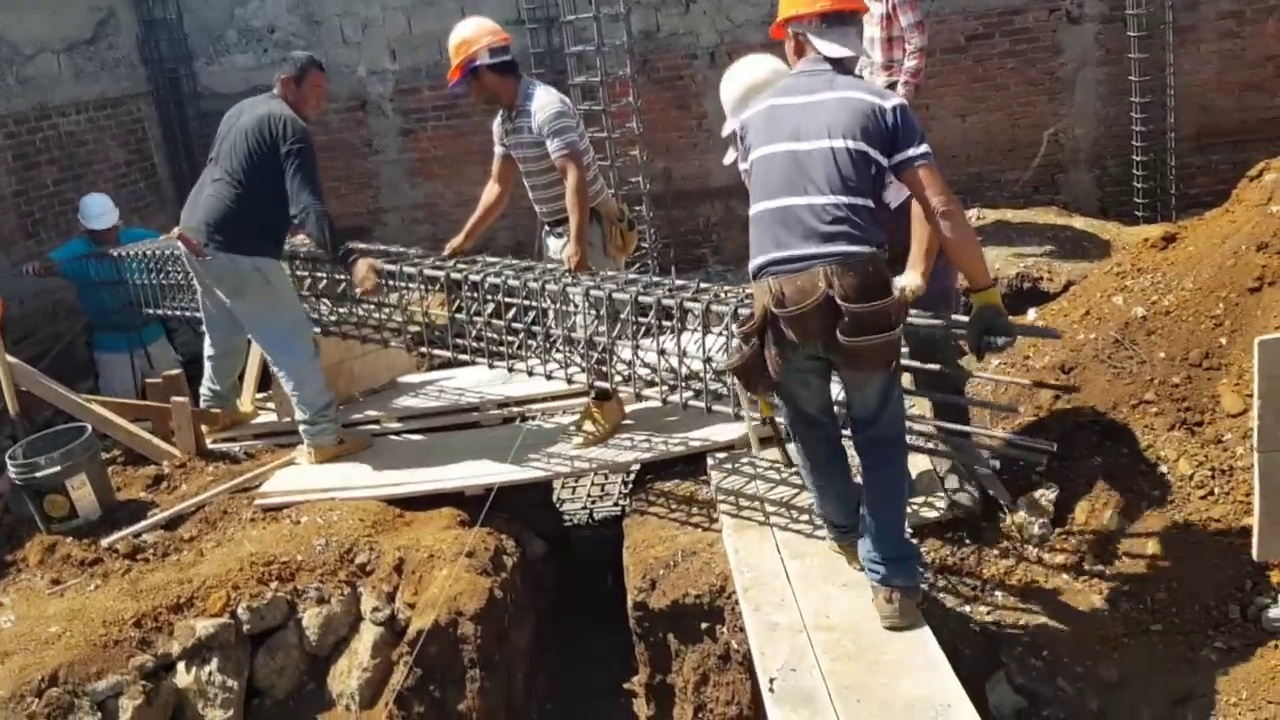helmet: (719, 53, 790, 138), (442, 19, 513, 89), (767, 0, 870, 42), (72, 193, 118, 231)
helmet-off: (265, 53, 326, 119)
helmet-on: (442, 17, 527, 115), (765, 0, 880, 66), (69, 193, 121, 250)
person: (708, 3, 1016, 606), (434, 16, 636, 444), (176, 55, 346, 480), (44, 194, 183, 405), (856, 0, 925, 109)
